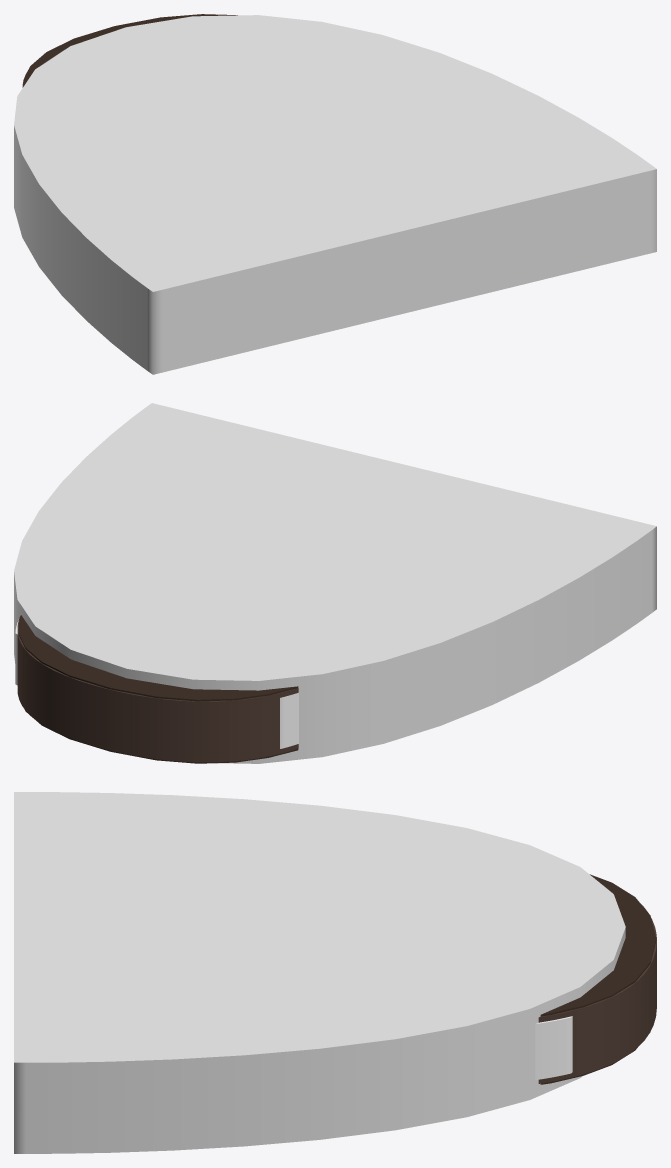
File: emoji_u1f470_1f3fe_200d_2642.glb
The picture shows the model from 3 angles, top to bottom: view 1: azimuth 30°, elevation 25°; view 2: azimuth 150°, elevation 25°; view 3: azimuth 270°, elevation 25°; orthographic projection. The views are drawn at different scales.
Visible parts, largest first — view 1: emoji_u1f470_1f3fe_200d_2642; view 2: emoji_u1f470_1f3fe_200d_2642; view 3: emoji_u1f470_1f3fe_200d_2642.
Part boxes in pixels (x1,y1,x2,y2): emoji_u1f470_1f3fe_200d_2642: [14, 14, 656, 374]; emoji_u1f470_1f3fe_200d_2642: [14, 403, 656, 763]; emoji_u1f470_1f3fe_200d_2642: [14, 792, 656, 1153].
Size of the model in its own units: 0.0331 by 0.0052 by 0.0333.
